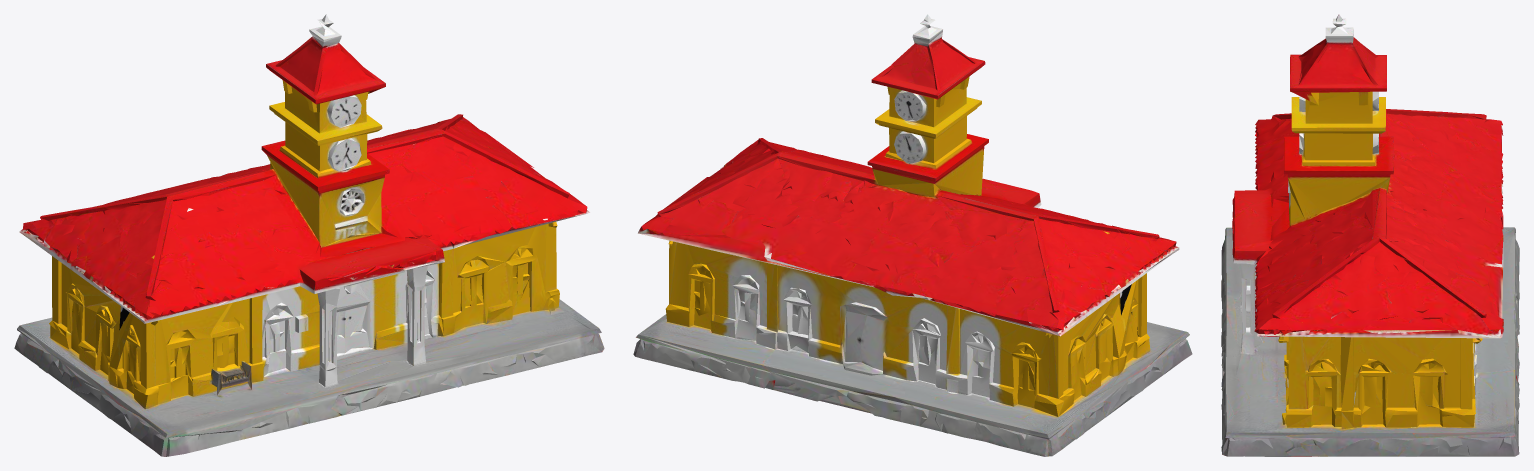
File: lm_train.glb
3 views of the same model, side by side, from view 1: azimuth 30°, elevation 25°; view 2: azimuth 150°, elevation 25°; view 3: azimuth 270°, elevation 25° (orthographic). The views are drawn at different scales.
Visible parts, largest first — view 1: output_unwrapped; view 2: output_unwrapped; view 3: output_unwrapped.
Part boxes in pixels (<box>): output_unwrapped: <box>14,14,604,456</box>; output_unwrapped: <box>633,14,1192,456</box>; output_unwrapped: <box>1221,14,1519,456</box>.
Bounding box in the file's own units: 1.9 × 1.41 × 1.13.
Materials: 1 (1 with a texture image).
